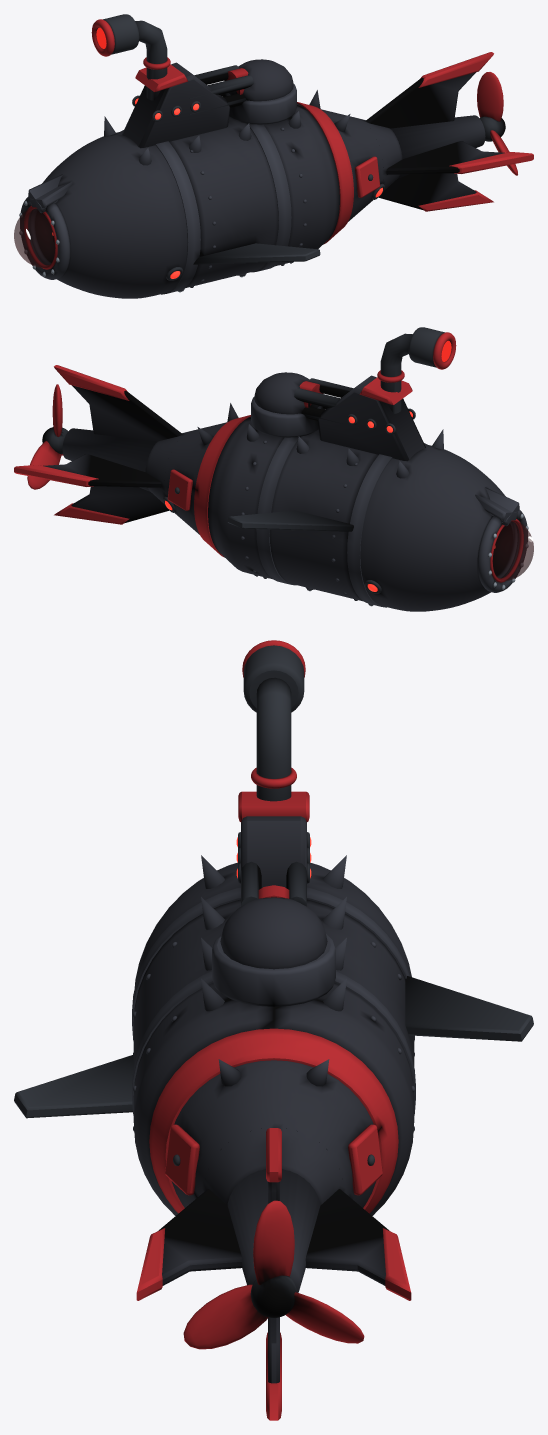
File: enemy_boss.glb
The picture shows the model from 3 angles, top to bottom: view 1: azimuth 30°, elevation 25°; view 2: azimuth 150°, elevation 25°; view 3: azimuth 270°, elevation 25°; orthographic projection. The views are drawn at different scales.
Parts seen in each view (by area): view 1: enemy_boss_body, propeller.002, turret_guns_mesh.001; view 2: enemy_boss_body, propeller.002, turret_guns_mesh.001; view 3: enemy_boss_body, propeller.002, turret_guns_mesh.001.
Boxes of the visible parts, x1,y1,x2,y2 form: enemy_boss_body: [14, 14, 533, 298]; propeller.002: [477, 72, 517, 175]; turret_guns_mesh.001: [190, 65, 253, 114]; enemy_boss_body: [14, 327, 533, 611]; propeller.002: [27, 384, 68, 489]; turret_guns_mesh.001: [294, 378, 357, 427]; enemy_boss_body: [14, 640, 533, 1420]; propeller.002: [183, 1200, 364, 1349]; turret_guns_mesh.001: [241, 861, 306, 906].
Size of the model in its own units: 7.77 by 4.32 by 4.3.
